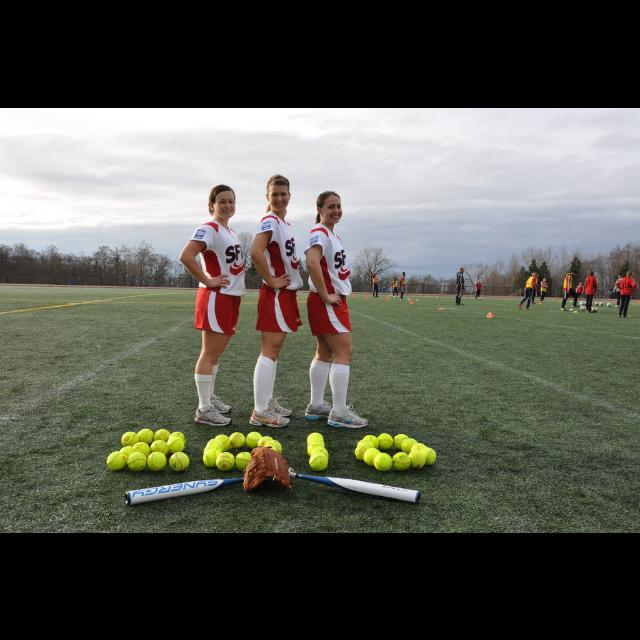Football: (580, 304, 584, 310)
